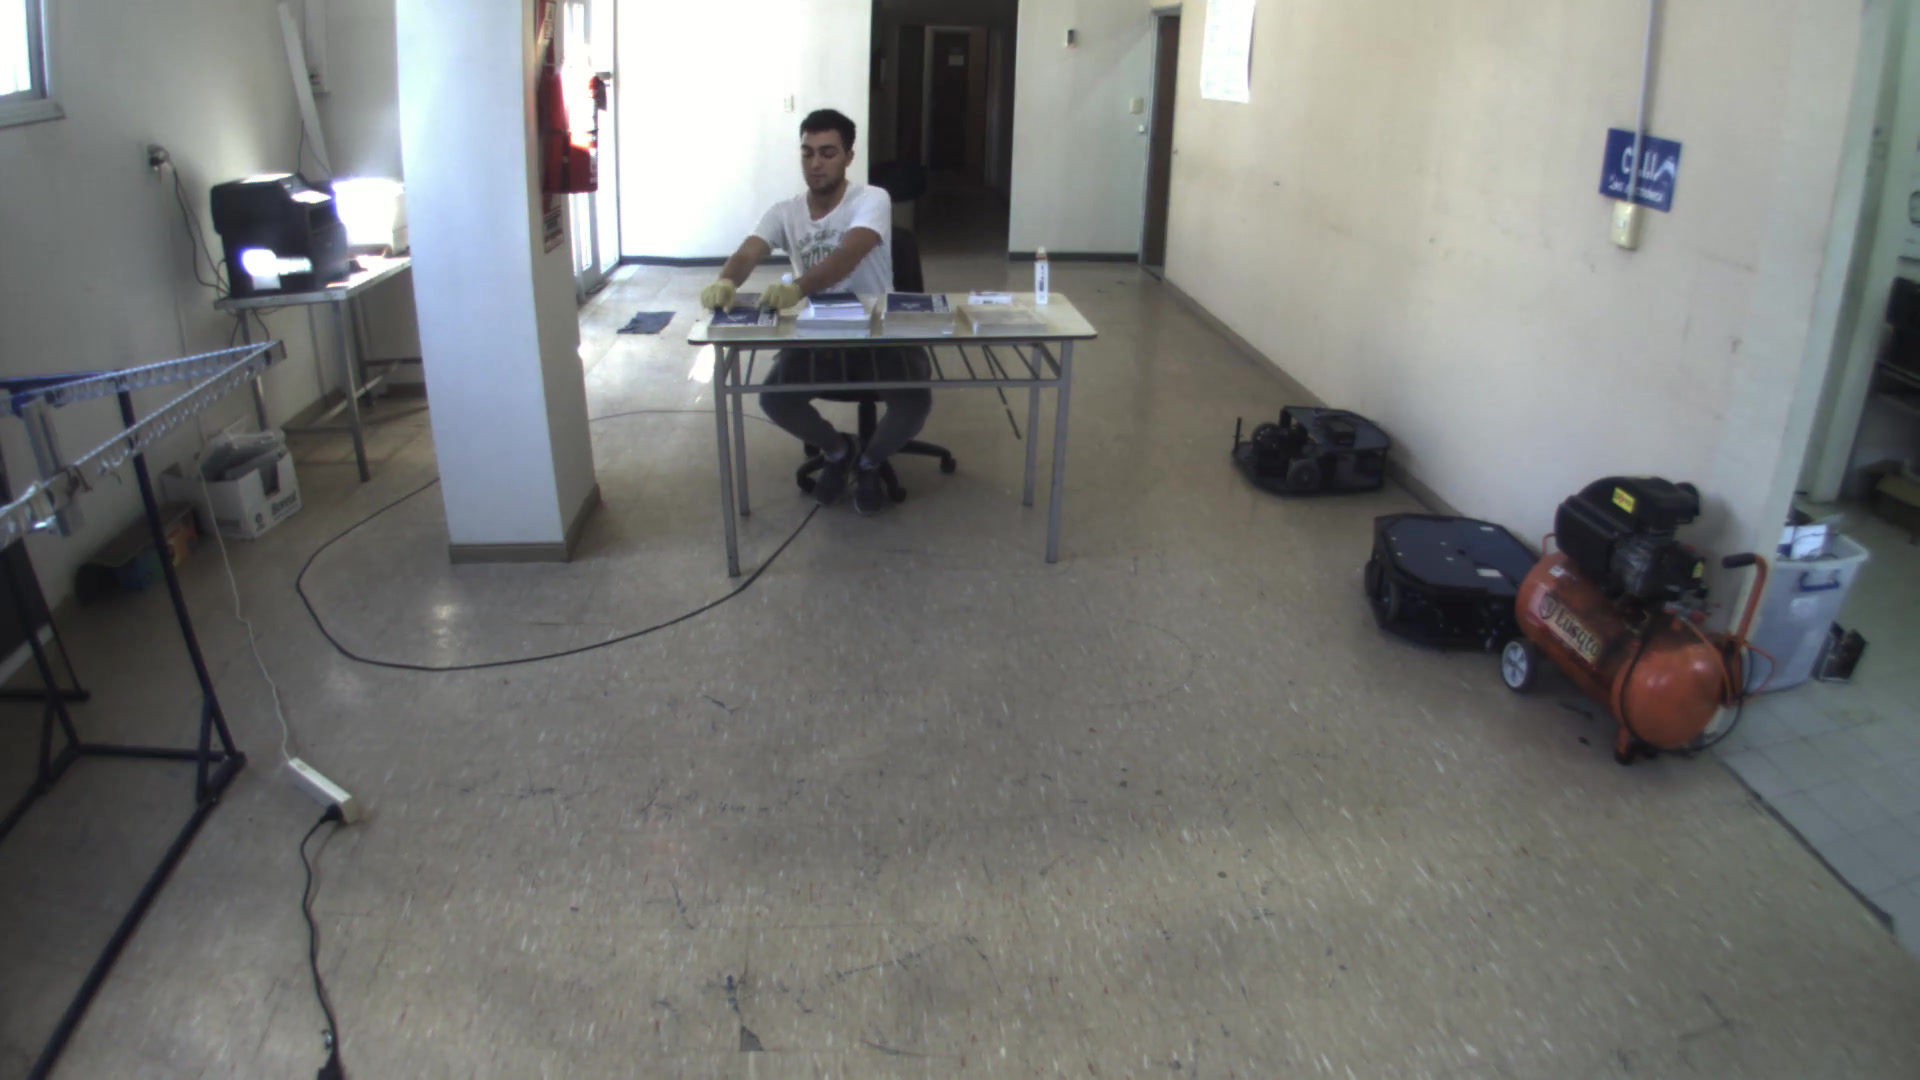hand: (699, 280, 736, 322), (756, 278, 804, 309)
